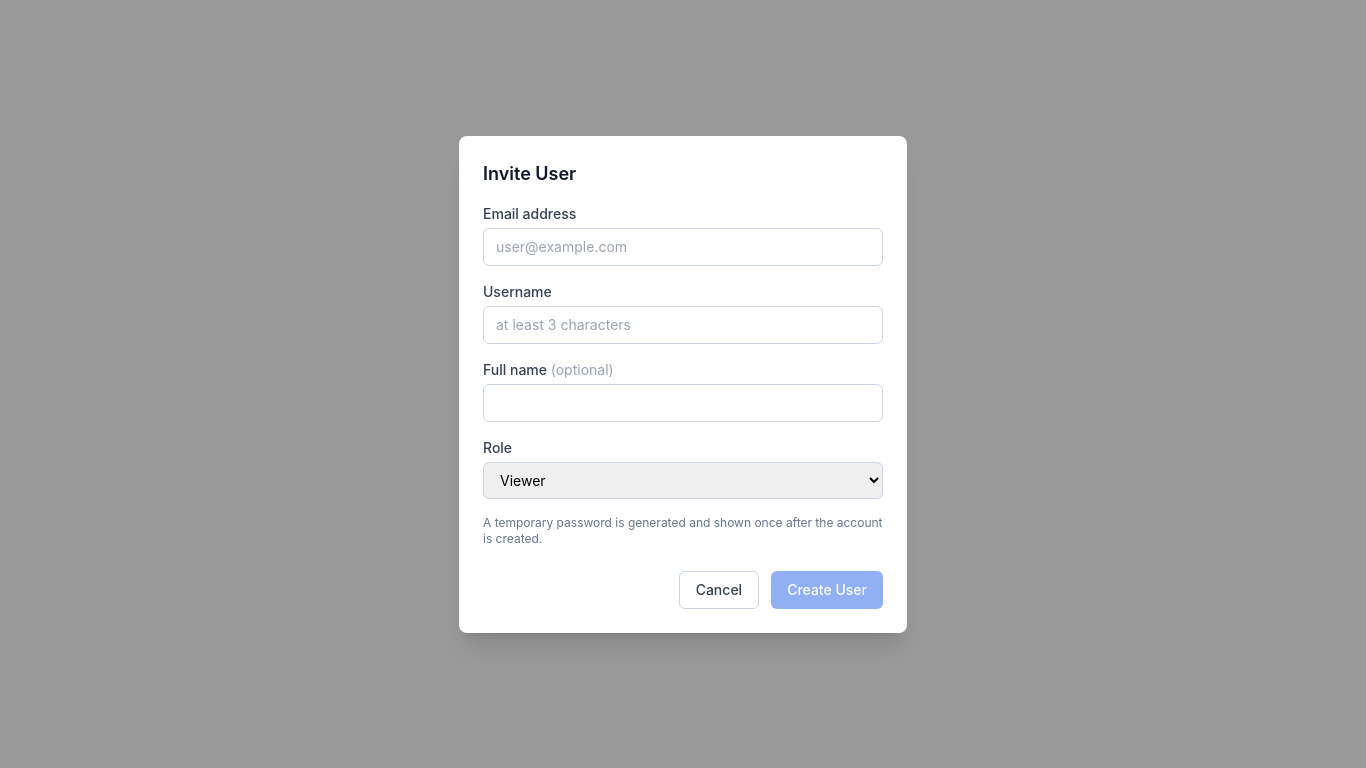
Test: InviteUserModal › disables submit while the username is shorter than 3 characters
Step 1. Type "ab@example.com" into the field with test id "invite-email-input" → (683, 246), box [483,228,883,266]
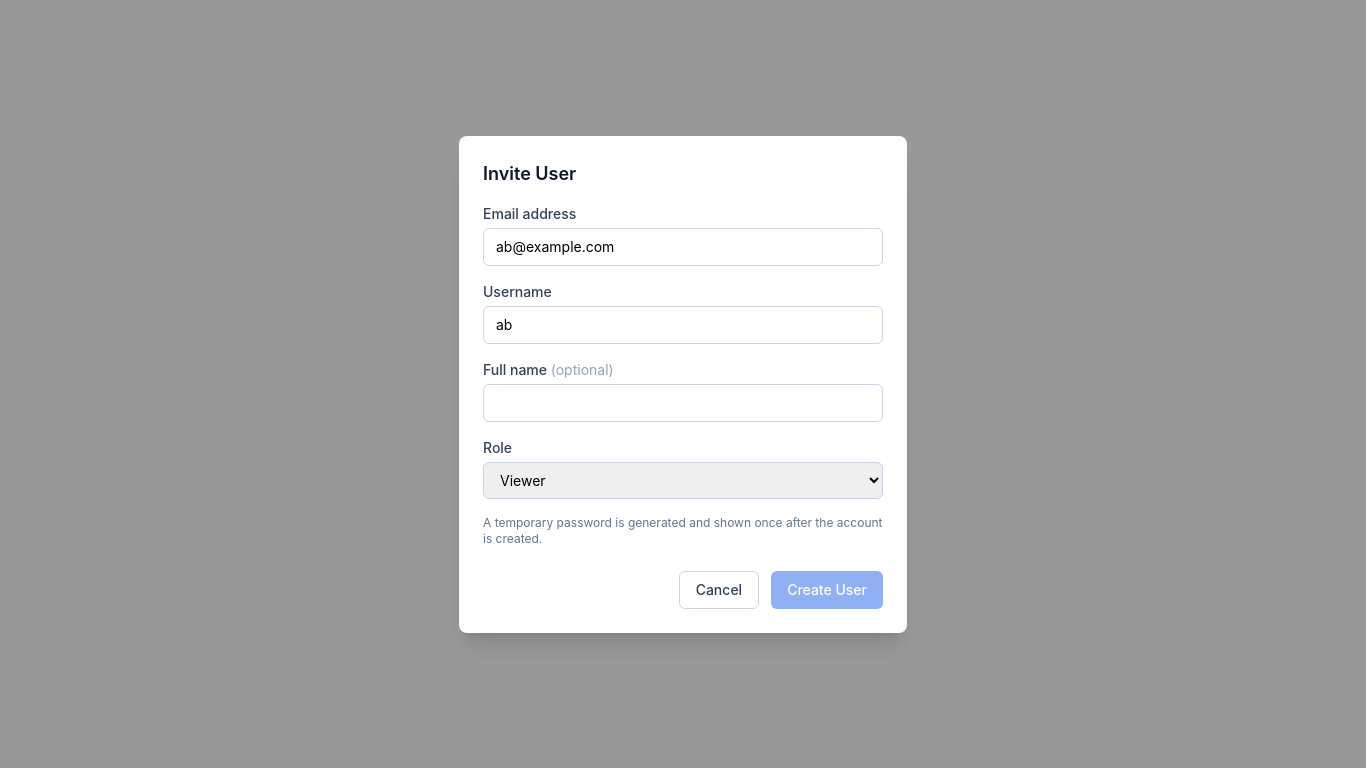
Expected: the button with test id "invite-submit-button" is disabled, [771,570,883,608]
Step 2. Replace the text in the field with test id "invite-username-input" with "abc" → (683, 324), box [483,306,883,344]
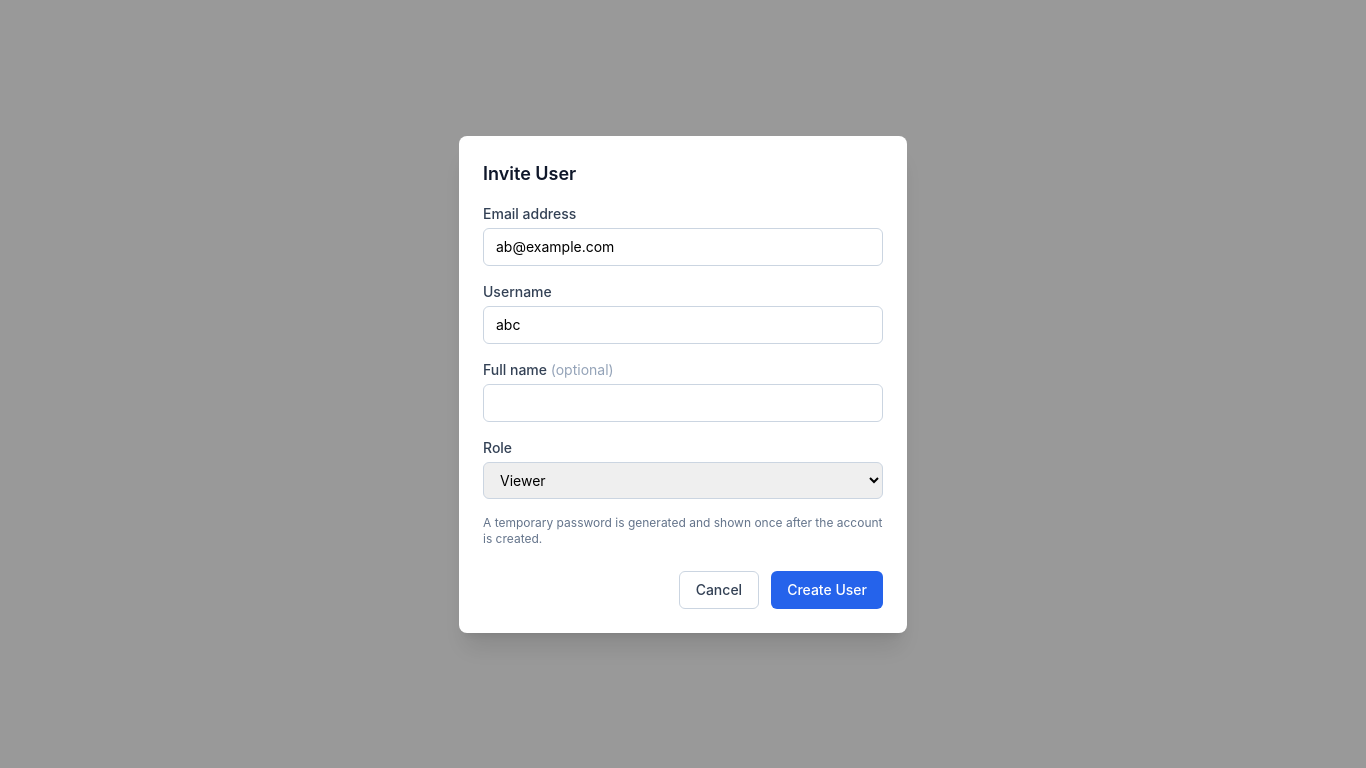
Expected: the button with test id "invite-submit-button" is enabled, [771,570,883,608]
